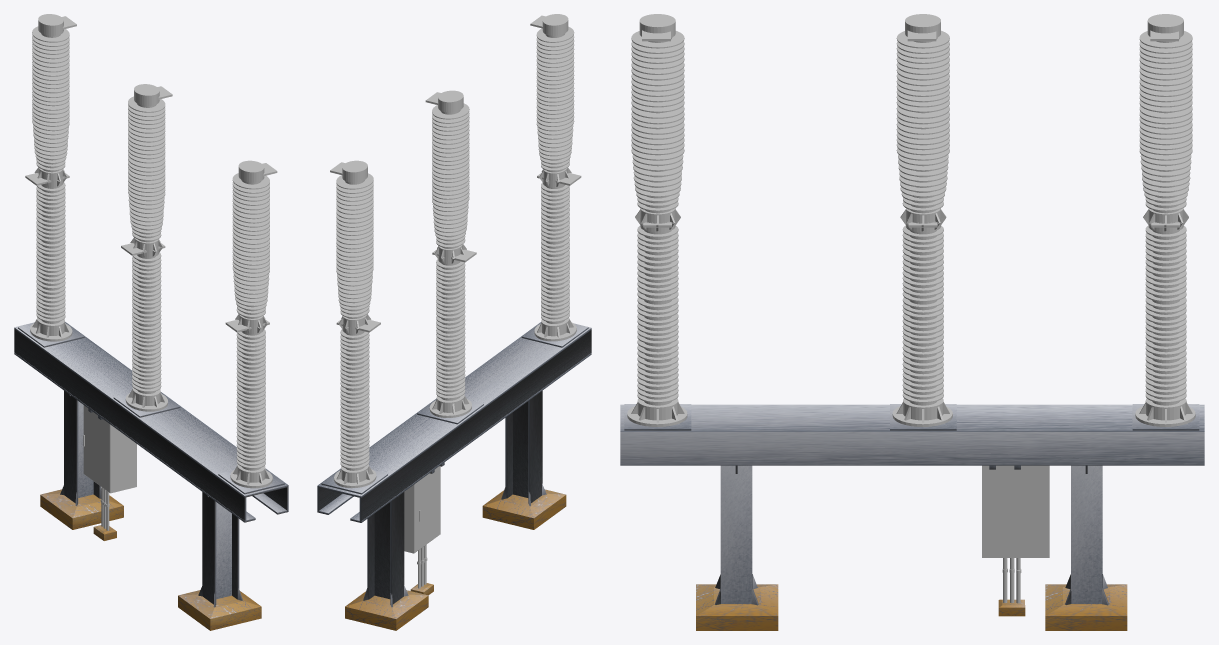
Rendered from interruptorRdm.fbx.
3 renders of one model, left to right at view 1: azimuth 30°, elevation 25°; view 2: azimuth 150°, elevation 25°; view 3: azimuth 270°, elevation 25°, orthographic. The views are drawn at different scales.
Visible parts, largest first — view 1: Cube.112, Plano; view 2: Cube.112, Plano; view 3: Cube.112.
Part boxes in pixels (bbox=[...]): Cube.112: bbox=[14, 14, 288, 630]; Plano: bbox=[83, 405, 109, 492]; Cube.112: bbox=[317, 14, 591, 630]; Plano: bbox=[414, 466, 440, 552]; Cube.112: bbox=[620, 14, 1204, 630].
Bounding box in the file's own units: 80 × 700 × 622.
